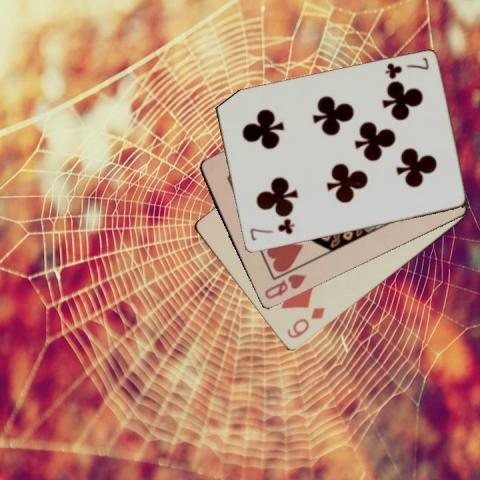6d: (284, 304, 327, 340)
7c: (382, 54, 430, 80), (247, 218, 295, 243)
Qh: (261, 271, 308, 301)
